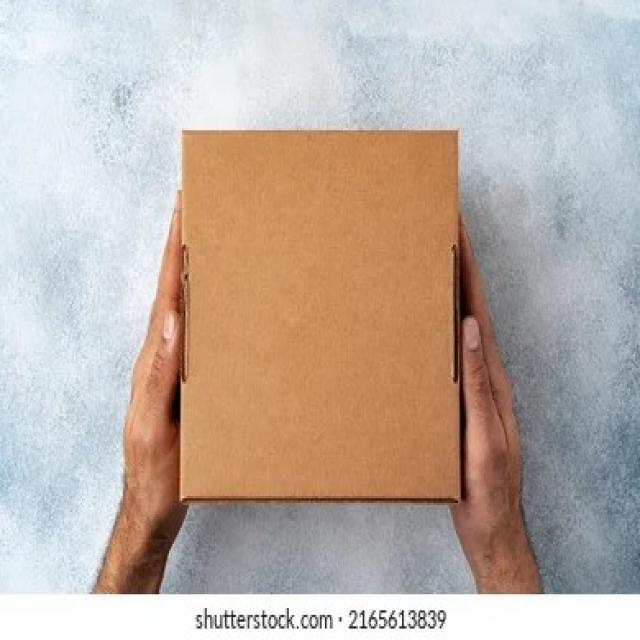Carton: (181, 128, 459, 503)
